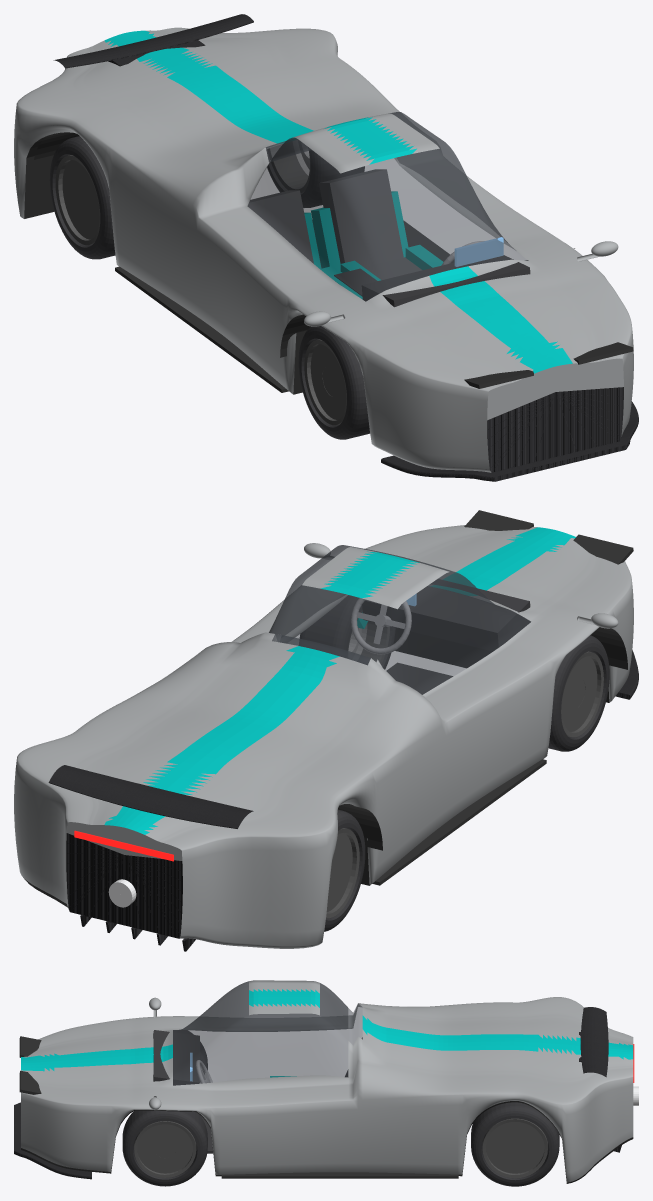
The model's file is mercedes-amg-one.glb.
3 views of the same model, one above another, from view 1: azimuth 30°, elevation 25°; view 2: azimuth 150°, elevation 25°; view 3: azimuth 270°, elevation 25° (orthographic). The views are drawn at different scales.
Visible parts, largest first — view 1: Body_PrimaryPaint, Glass_Windows, Carbon_Exterior, Body_SecondaryPaint, Interior_Seats, WheelWells, Tire_FR, Interior_SeatBolsters, Tire_RR, Rim_RR, Rim_FR, Interior_Dashboard (+5 smaller); view 2: Body_PrimaryPaint, Glass_Windows, Body_SecondaryPaint, Carbon_Exterior, Interior_Dashboard, WheelWells, Rim_FR, Tire_FR, Underbody, Rim_RR, Tire_FL, Lights_Housings (+5 smaller); view 3: Body_PrimaryPaint, Glass_Windows, Body_SecondaryPaint, Rim_RL, Tire_RL, Tire_FL, Rim_FL, Carbon_Exterior, Interior_Dashboard, WheelWells, Underbody, Lights_Housings.
Boxes of the visible parts, x1,y1,x2,y2 form: Body_PrimaryPaint: (14, 27, 633, 472); Glass_Windows: (247, 112, 528, 301); Carbon_Exterior: (53, 14, 638, 481); Body_SecondaryPaint: (104, 30, 572, 373); Interior_Seats: (247, 169, 421, 279); WheelWells: (34, 132, 574, 392); Tire_FR: (298, 326, 369, 439); Interior_SeatBolsters: (304, 191, 443, 299); Tire_RR: (49, 136, 115, 259); Rim_RR: (55, 155, 100, 245); Rim_FR: (304, 339, 346, 425); Interior_Dashboard: (361, 255, 530, 307); Body_PrimaryPaint: (14, 525, 633, 948); Glass_Windows: (269, 545, 530, 694); Body_SecondaryPaint: (104, 527, 575, 834); Carbon_Exterior: (48, 650, 638, 951); Interior_Dashboard: (362, 579, 530, 651); WheelWells: (338, 627, 627, 885); Rim_FR: (561, 651, 603, 737); Tire_FR: (548, 635, 609, 751); Underbody: (23, 622, 609, 907); Rim_RR: (326, 828, 359, 918); Tire_FL: (299, 595, 395, 669); Lights_Housings: (464, 510, 633, 564); Body_PrimaryPaint: (21, 980, 633, 1182); Glass_Windows: (173, 981, 362, 1085); Body_SecondaryPaint: (21, 989, 633, 1071); Rim_RL: (482, 1118, 547, 1178); Tire_RL: (471, 1102, 559, 1186); Tire_FL: (122, 1110, 207, 1186); Rim_FL: (134, 1121, 196, 1177); Carbon_Exterior: (14, 1007, 621, 1179); Interior_Dashboard: (153, 1030, 199, 1085); WheelWells: (221, 1172, 458, 1178); Underbody: (21, 1101, 633, 1183); Lights_Housings: (19, 1036, 41, 1094).
Size of the model in its own units: 2.02 by 1.26 by 4.86.
17 materials, 2 textured.
